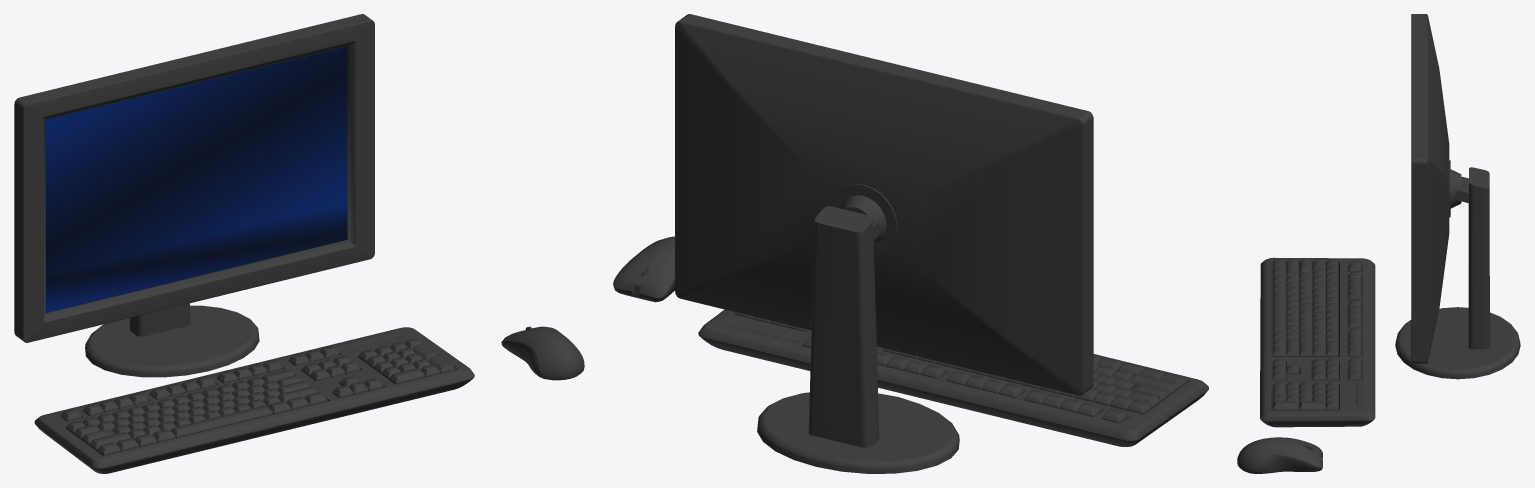
File: computer.glb
3 renders of one model, left to right at view 1: azimuth 30°, elevation 25°; view 2: azimuth 150°, elevation 25°; view 3: azimuth 270°, elevation 25°, orthographic. The views are drawn at different scales.
Parts seen in each view (by area): view 1: node_id30, Plane; view 2: node_id30; view 3: node_id30.
Part boxes in pixels (x1,y1,x2,y2): node_id30: [14, 14, 584, 473]; Plane: [45, 46, 347, 313]; node_id30: [613, 14, 1208, 473]; node_id30: [1237, 14, 1520, 473].
Bounding box in the file's own units: 0.7131 × 0.4348 × 0.4202.
2 materials, 2 textured.
